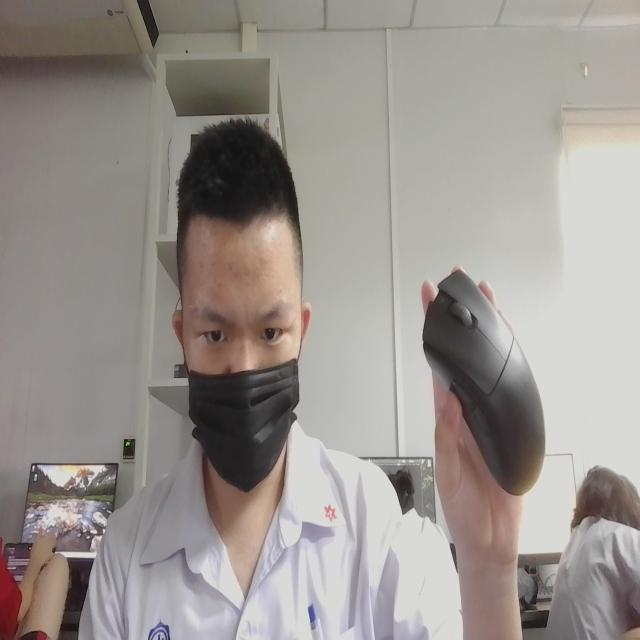mouse: (410, 252, 549, 507)
